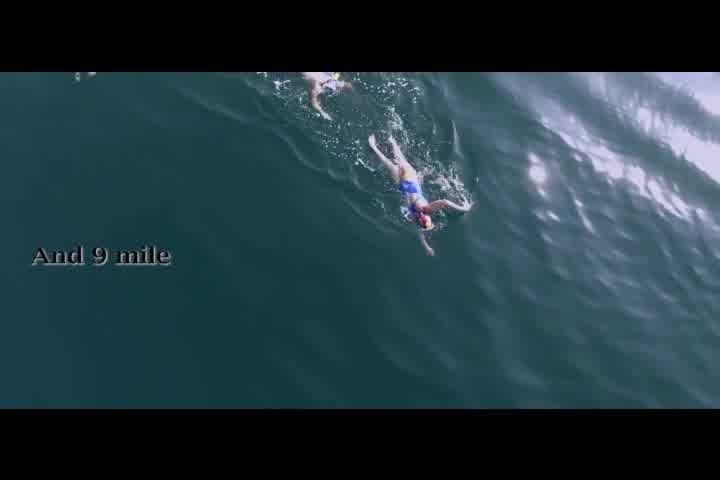human: (365, 130, 463, 249)
